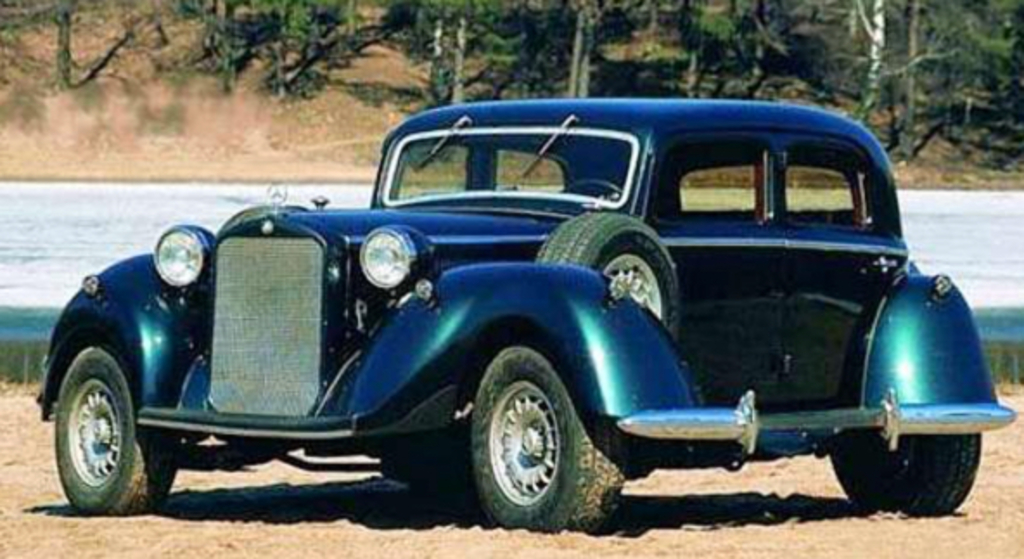Car: (35, 97, 1016, 535)
